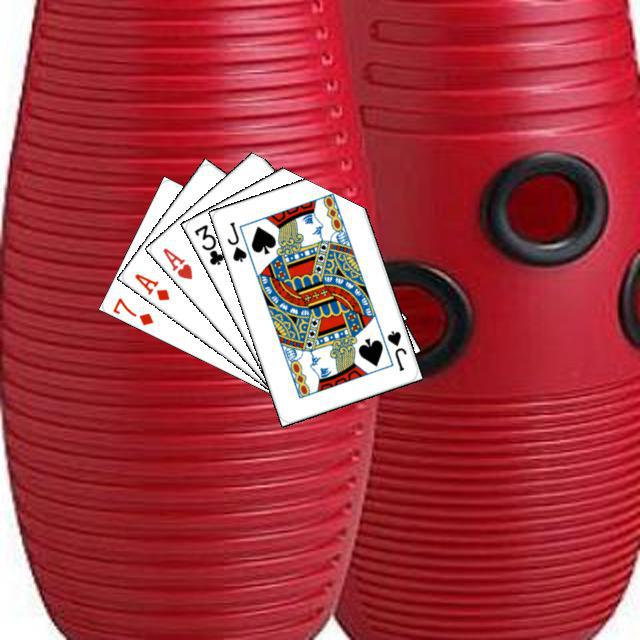3c: (189, 219, 225, 267)
7d: (108, 293, 155, 327)
Ad: (129, 268, 171, 302)
Ah: (157, 243, 194, 281)
Js: (222, 217, 249, 264), (382, 326, 408, 373)
